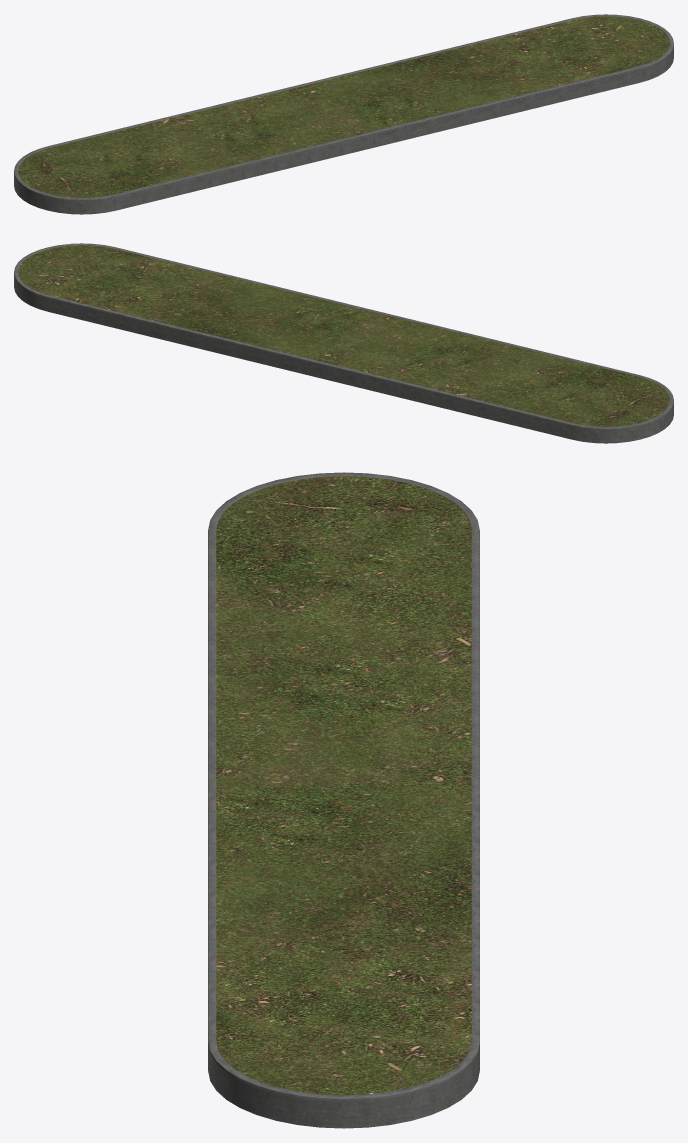
File: SM_Gate_Island_2.fbx
The picture shows the model from 3 angles, top to bottom: view 1: azimuth 30°, elevation 25°; view 2: azimuth 150°, elevation 25°; view 3: azimuth 270°, elevation 25°; orthographic projection. The views are drawn at different scales.
Parts seen in each view (by area): view 1: SM_Gate_Island_2_LOD0; view 2: SM_Gate_Island_2_LOD0; view 3: SM_Gate_Island_2_LOD0.
Boxes of the visible parts, x1,y1,x2,y2 form: SM_Gate_Island_2_LOD0: (14, 14, 673, 214); SM_Gate_Island_2_LOD0: (14, 243, 673, 443); SM_Gate_Island_2_LOD0: (208, 472, 479, 1128).
Size of the model in its own units: 3600 by 660 by 80.
Materials: 2 (2 with a texture image).
